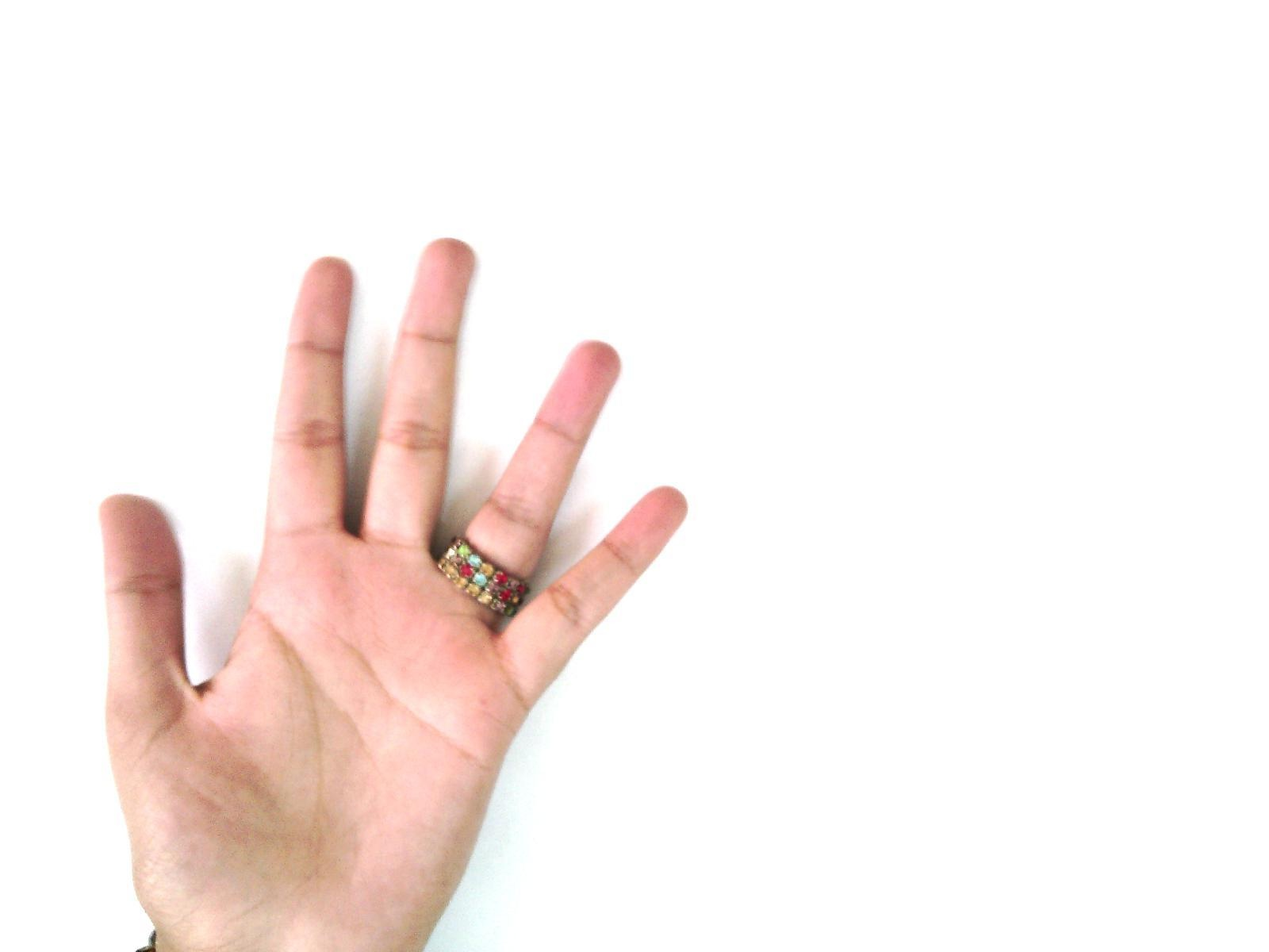open_palm: (97, 236, 691, 951)
